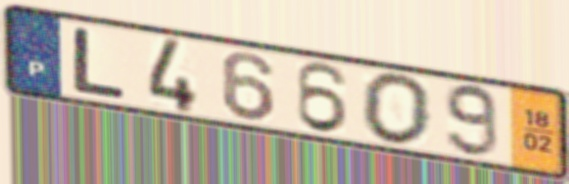4: (145, 34, 201, 117)
6: (293, 60, 351, 136), (218, 50, 278, 122)
9: (442, 82, 503, 161)
L: (69, 24, 129, 102)
O: (358, 70, 434, 149)
